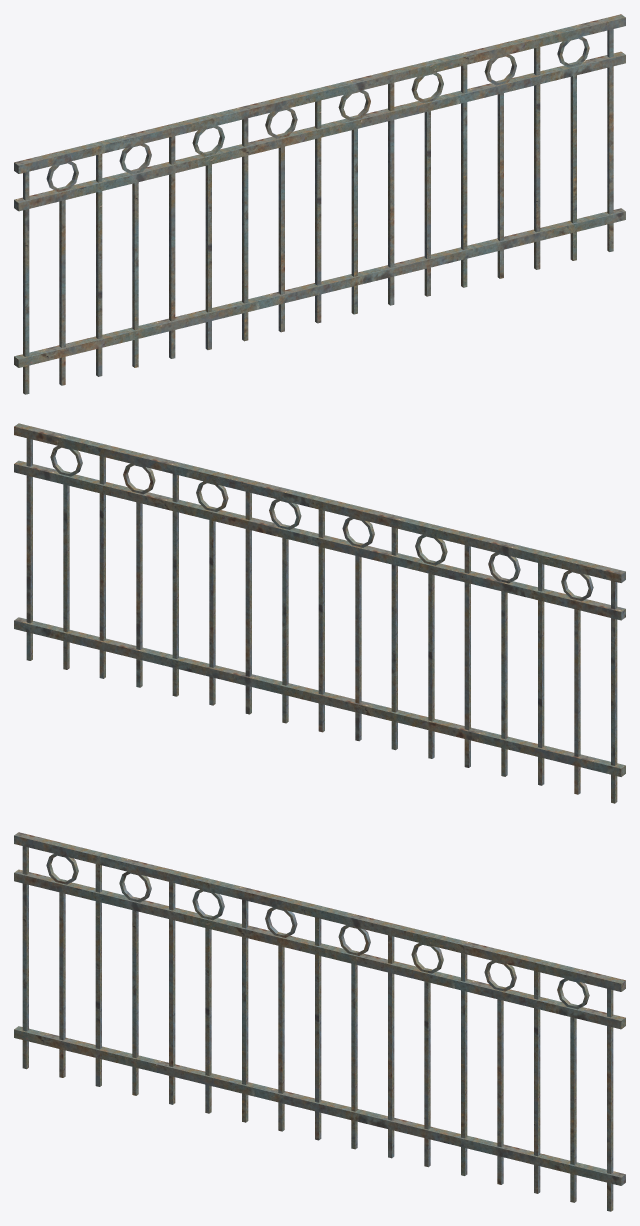
File: fence01.FBX
3 renders of one model, top to bottom at view 1: azimuth 30°, elevation 25°; view 2: azimuth 150°, elevation 25°; view 3: azimuth 330°, elevation 25°, orthographic.
Parts seen in each view (by area): view 1: metal_fen; view 2: metal_fen; view 3: metal_fen.
Part boxes in pixels (box(x1,y1,x2,y2)): metal_fen: box(14, 14, 625, 394); metal_fen: box(14, 423, 625, 803); metal_fen: box(14, 832, 625, 1211).
Bounding box in the file's own units: 476 × 173 × 6.31.
